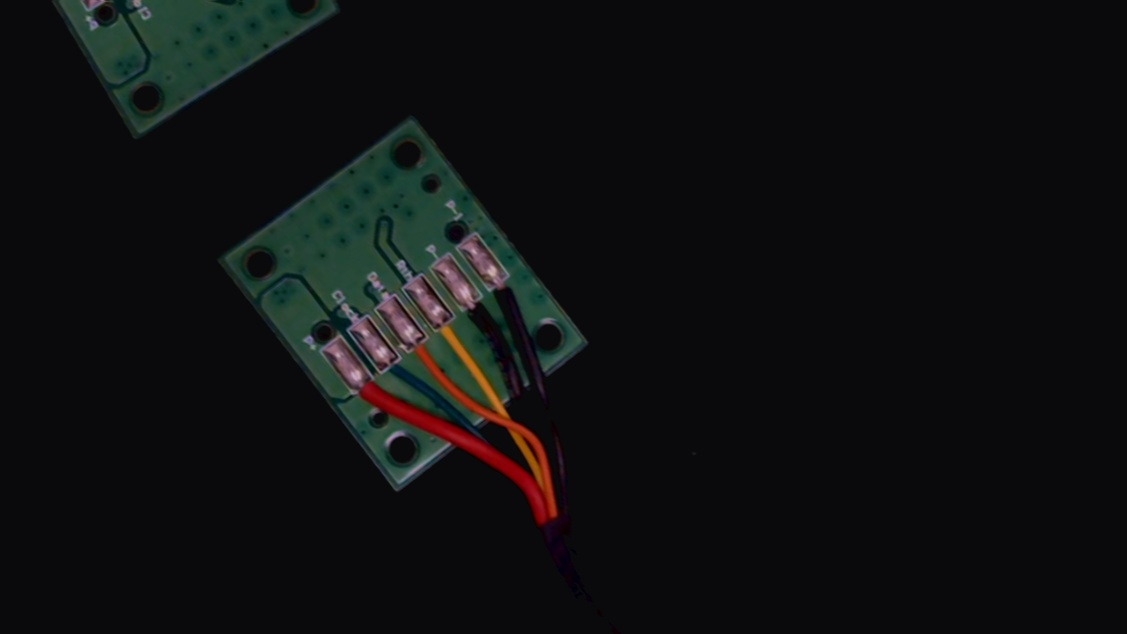Black: (451, 282, 512, 352)
Black1: (479, 263, 537, 328)
Green: (367, 343, 421, 402)
Orange: (396, 323, 455, 391)
Red: (342, 363, 395, 422)
Yellow: (423, 301, 485, 372)
